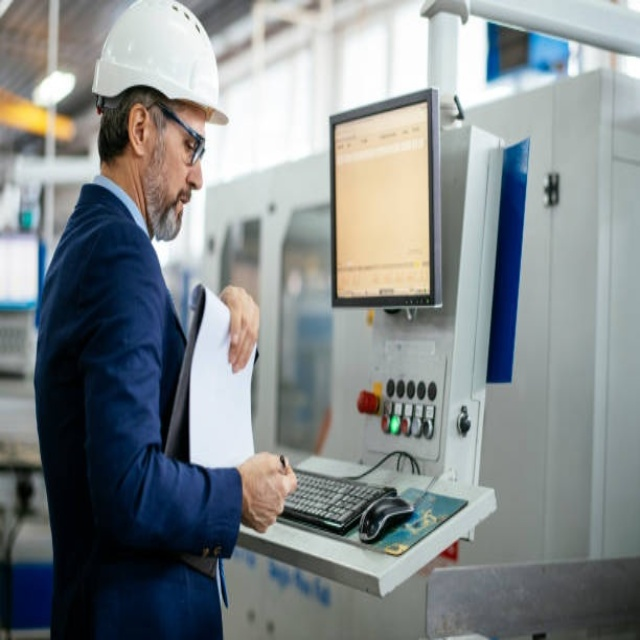Gafas: (147, 101, 206, 166)
Sin_guantes: (239, 451, 298, 534), (218, 284, 260, 373)
Sin_mascara: (163, 182, 195, 235)
